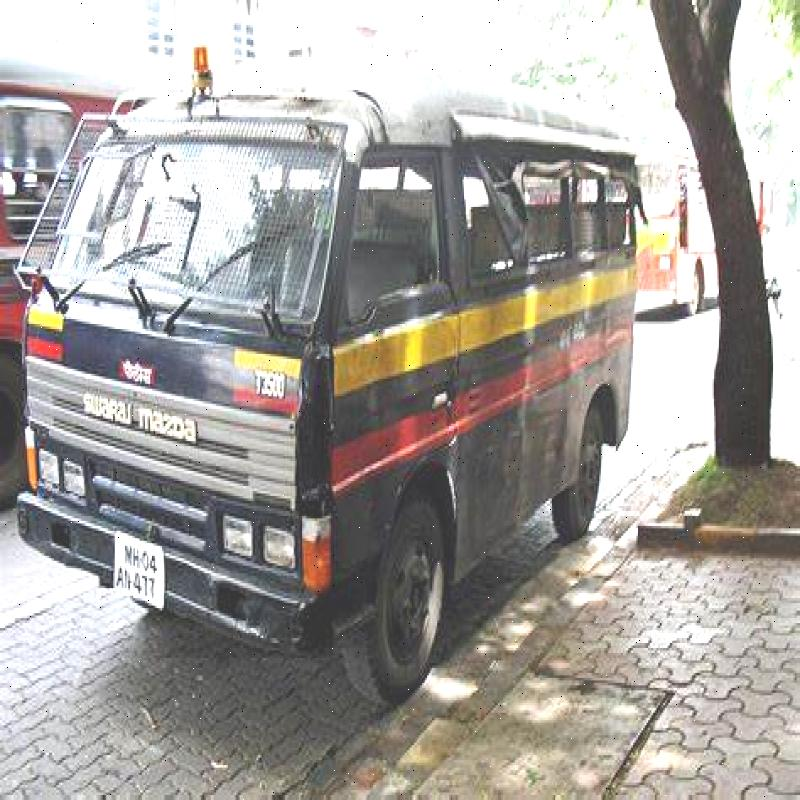AmbulanceSiren: (186, 36, 238, 110)
